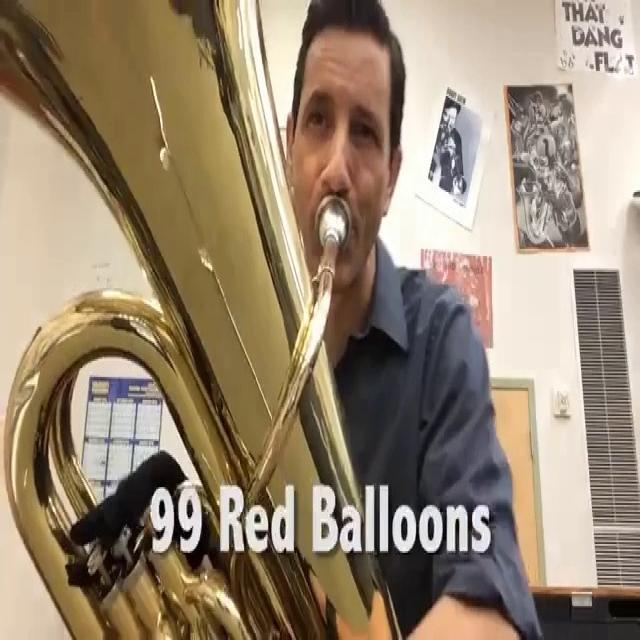Tuba: (0, 1, 414, 640)
